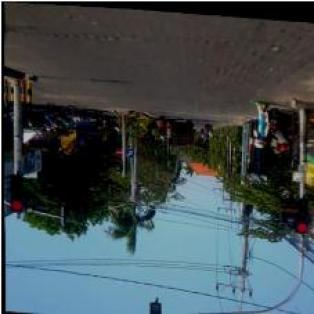Semaforo Rojo: (5, 173, 25, 213), (296, 195, 308, 230)
